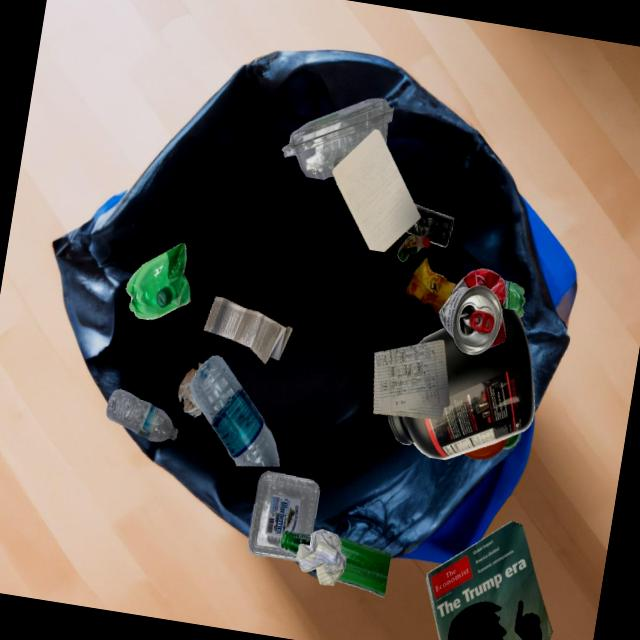biowaste: (406, 258, 457, 315)
glass: (337, 536, 391, 598), (502, 433, 520, 449)
metal: (439, 269, 507, 356)
paper: (426, 521, 552, 640), (332, 129, 421, 253), (373, 340, 449, 420), (204, 297, 292, 364), (297, 529, 347, 586), (178, 362, 203, 418)
plastic: (388, 308, 535, 460), (190, 356, 279, 467), (282, 99, 394, 180), (248, 471, 319, 561), (126, 243, 191, 320), (106, 389, 178, 442), (406, 203, 454, 247), (464, 437, 509, 459), (397, 234, 430, 262), (502, 280, 525, 318)
